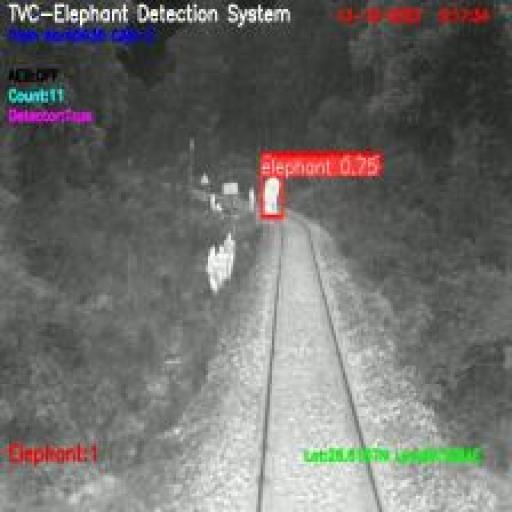Elephant: (261, 176, 281, 219)
